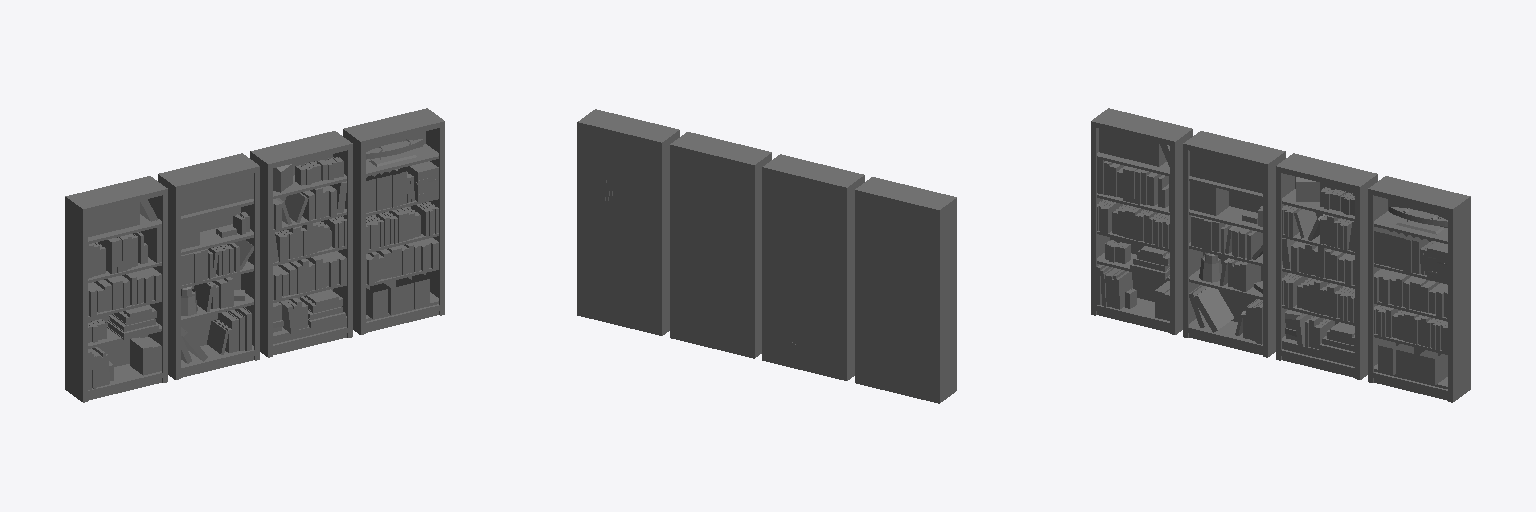
Rendered from Libreria.obj.
3 renders of one model, left to right at view 1: azimuth 30°, elevation 25°; view 2: azimuth 150°, elevation 25°; view 3: azimuth 330°, elevation 25°, orthographic.
Parts seen in each view (by area): view 1: Bookcase_003, Bookcase_001, Bookcase_004, Bookcase_002, Group_002, Group_001, Speed_Boat_001, Magazine_Stack_001, Shelf_001; view 2: Bookcase_003, Bookcase_004, Bookcase_001, Bookcase_002; view 3: Bookcase_004, Bookcase_001, Bookcase_003, Bookcase_002, Group_002, Group_001, book_1_007, Speed_Boat_001, Magazine_Stack_001, Shelf_001, Cookie_Jar_001, House_Half_001.
Boxes of the visible parts, x1,y1,x2,y2 form: Bookcase_003: [65, 176, 167, 402]; Bookcase_001: [158, 153, 259, 379]; Bookcase_004: [343, 108, 444, 334]; Bookcase_002: [250, 131, 352, 357]; Group_002: [366, 274, 429, 318]; Group_001: [88, 337, 161, 389]; Speed_Boat_001: [366, 139, 423, 166]; Magazine_Stack_001: [403, 161, 438, 201]; Shelf_001: [181, 224, 253, 254]; Bookcase_003: [855, 177, 956, 403]; Bookcase_004: [577, 109, 679, 335]; Bookcase_001: [762, 154, 864, 380]; Bookcase_002: [670, 132, 771, 358]; Bookcase_004: [1368, 176, 1470, 402]; Bookcase_001: [1183, 131, 1285, 357]; Bookcase_003: [1091, 108, 1192, 334]; Bookcase_002: [1276, 153, 1377, 379]; Group_002: [1378, 340, 1447, 385]; Group_001: [1096, 265, 1169, 320]; book_1_007: [1193, 287, 1233, 332]; Speed_Boat_001: [1389, 207, 1447, 234]; Magazine_Stack_001: [1427, 242, 1447, 282]; Shelf_001: [1189, 206, 1262, 232]; Cookie_Jar_001: [1199, 252, 1221, 282]; House_Half_001: [1296, 177, 1319, 201].
Size of the model in its own units: 40.33 by 20.59 by 3.76.